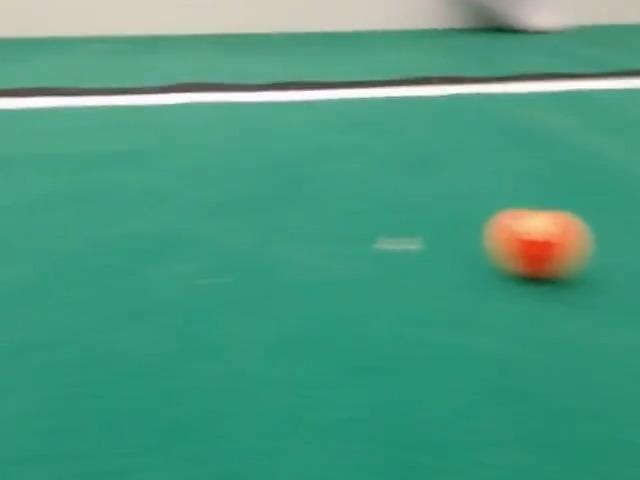Ball: (484, 209, 593, 279)
